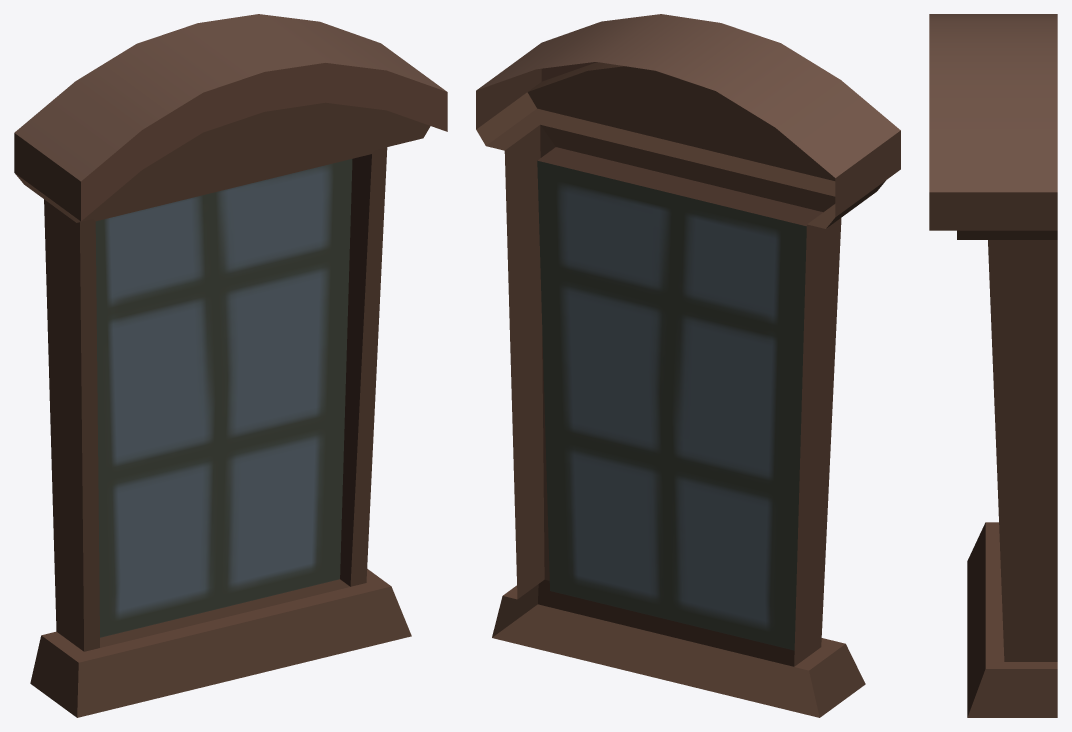
File: Window_E08.fbx
3 renders of one model, left to right at view 1: azimuth 30°, elevation 25°; view 2: azimuth 150°, elevation 25°; view 3: azimuth 270°, elevation 25°, orthographic. The views are drawn at different scales.
Parts seen in each view (by area): view 1: Window_E08; view 2: Window_E08; view 3: Window_E08.
Part boxes in pixels (x1=…): Window_E08: x1=14, y1=14, x2=447, y2=717; Window_E08: x1=476, y1=14, x2=900, y2=717; Window_E08: x1=929, y1=14, x2=1057, y2=717.
Size of the model in its own units: 181 by 292 by 56.94.
